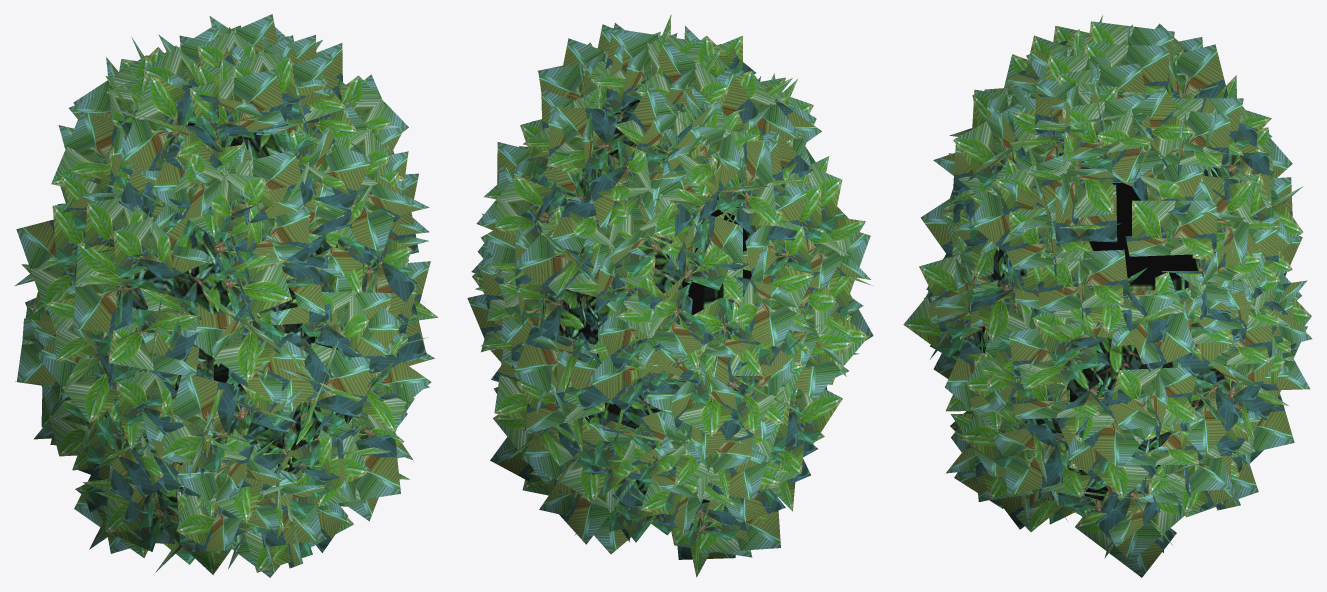
File: HedgeLongRound.FBX
3 renders of one model, left to right at view 1: azimuth 30°, elevation 25°; view 2: azimuth 150°, elevation 25°; view 3: azimuth 270°, elevation 25°, orthographic. The views are drawn at different scales.
Parts seen in each view (by area): view 1: HedgeLongRound; view 2: HedgeLongRound; view 3: HedgeLongRound.
Boxes of the visible parts, left/top/right/bottom form: HedgeLongRound: left=15, top=14, right=438, bottom=577; HedgeLongRound: left=467, top=14, right=873, bottom=577; HedgeLongRound: left=903, top=14, right=1311, bottom=577.
Size of the model in its own units: 27.97 by 38.81 by 28.21.
